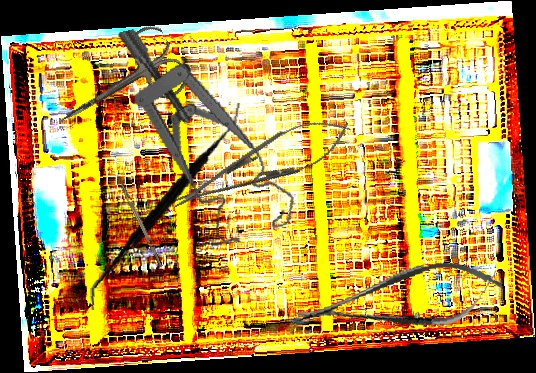Chopper: (109, 169, 164, 270)
Iris Scissors: (41, 20, 194, 152)
Micro Scissor: (291, 251, 506, 347)
Needle Holder: (162, 103, 359, 226)
Spatula Surgical: (87, 87, 244, 326)
Speculum: (115, 3, 301, 259)
